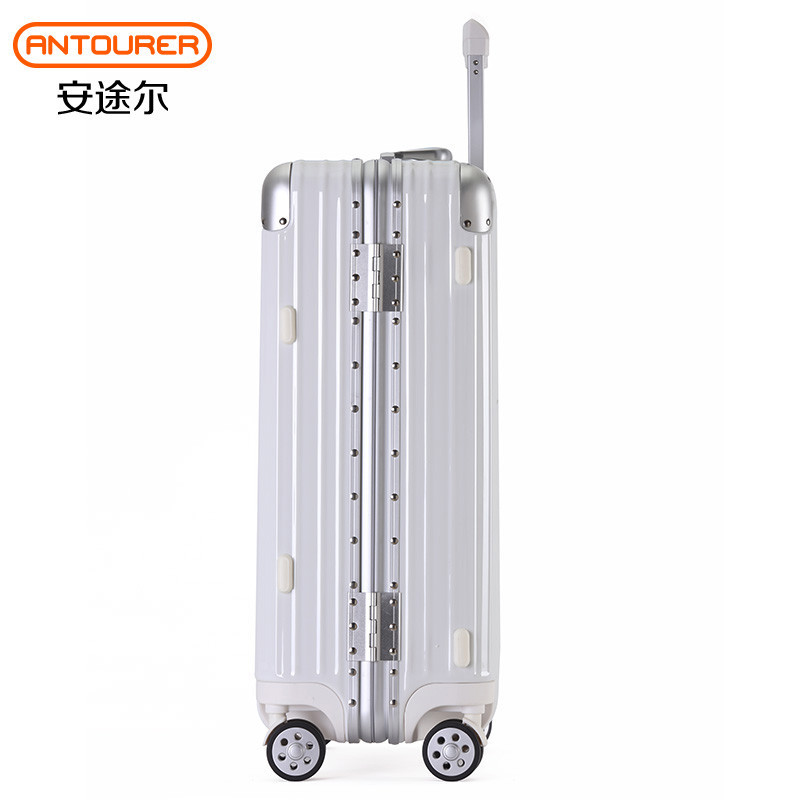suitcase: (256, 16, 503, 782)
